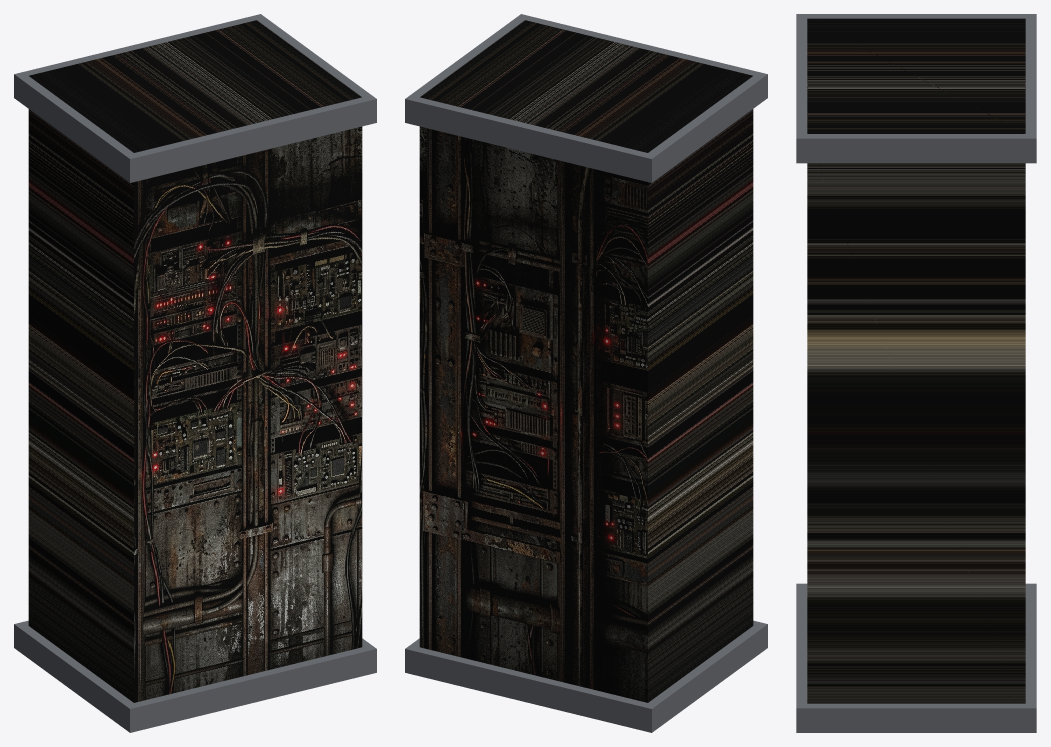
File: server_rack.glb
3 views of the same model, side by side, from view 1: azimuth 30°, elevation 25°; view 2: azimuth 150°, elevation 25°; view 3: azimuth 270°, elevation 25° (orthographic). The views are drawn at different scales.
Visible parts, largest first — view 1: ServerRack; view 2: ServerRack; view 3: ServerRack.
Part boxes in pixels (x1=…): ServerRack: x1=14, y1=14, x2=376, y2=732; ServerRack: x1=405, y1=14, x2=767, y2=732; ServerRack: x1=796, y1=14, x2=1036, y2=732.
Bounding box in the file's own units: 1.08 × 2.4 × 0.88.
Materials: 2 (1 with a texture image).
